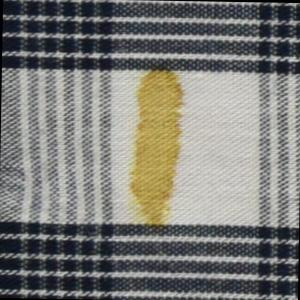Oil Stain: (125, 63, 188, 232)
